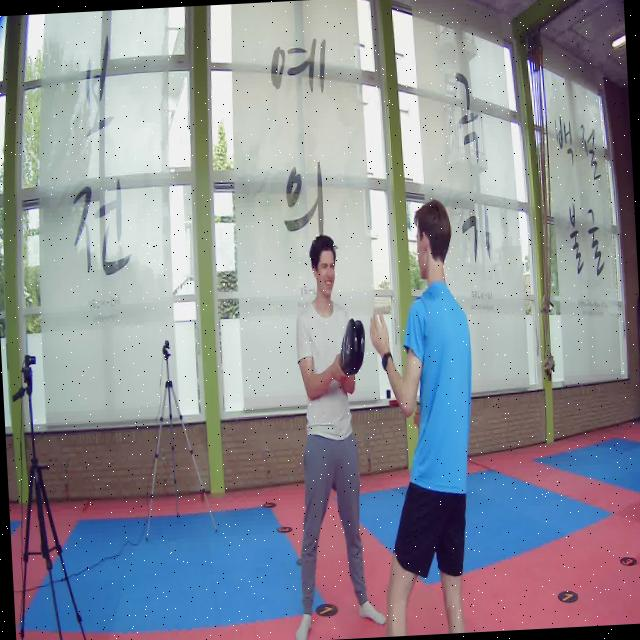paddle: (340, 317, 365, 376)
